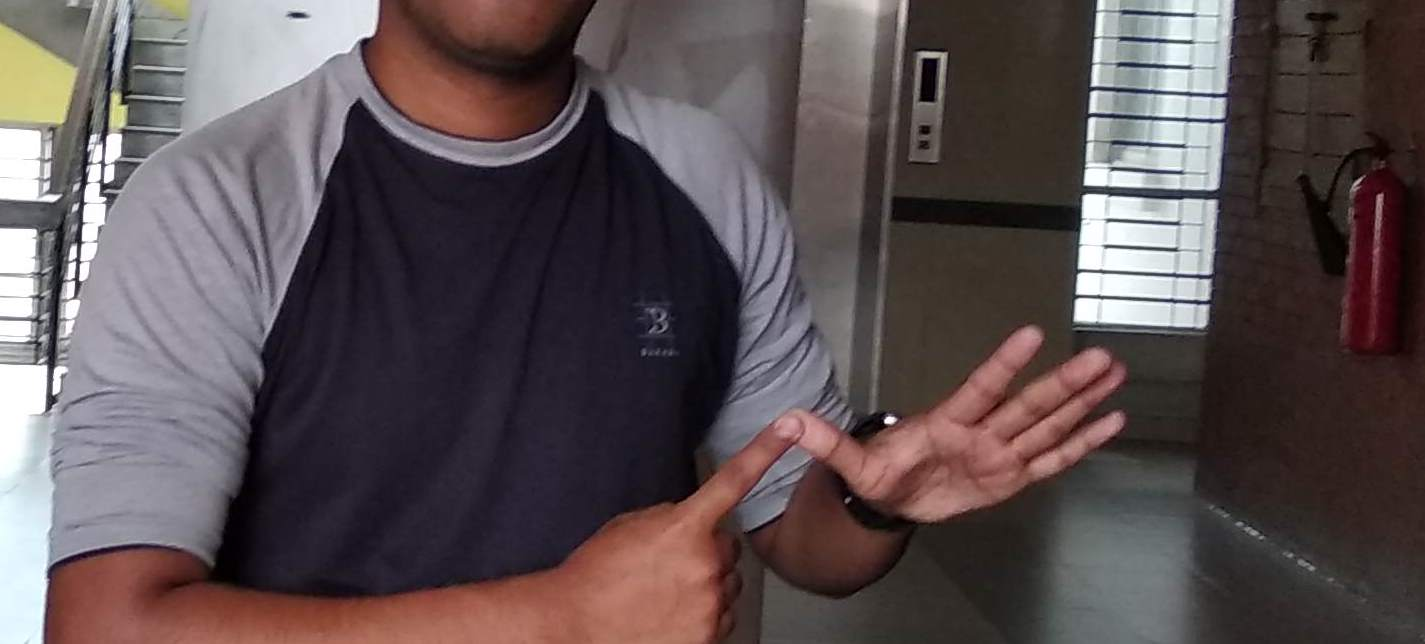a: (559, 330, 1104, 644)
